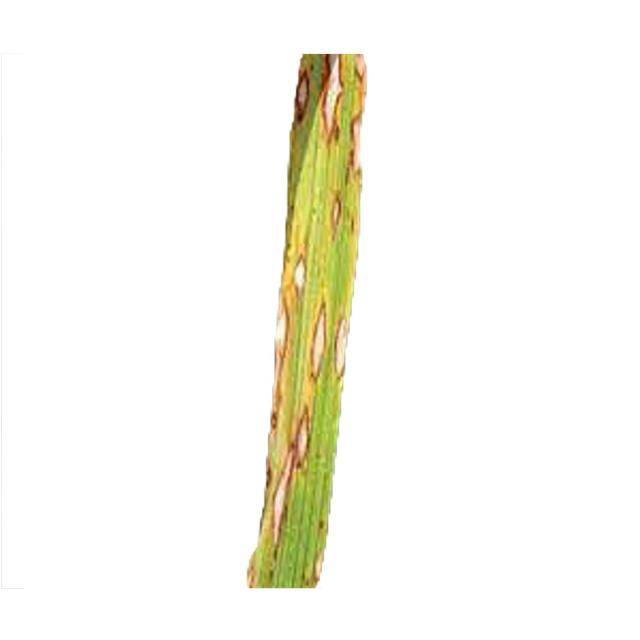Leaf blast: (213, 47, 417, 618)
